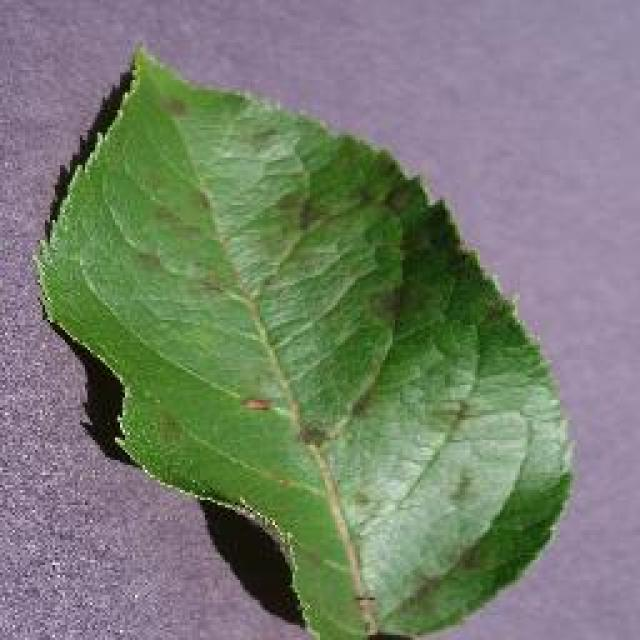App_scab: (341, 182, 464, 334), (361, 511, 491, 615), (224, 366, 350, 464), (158, 76, 212, 138)
